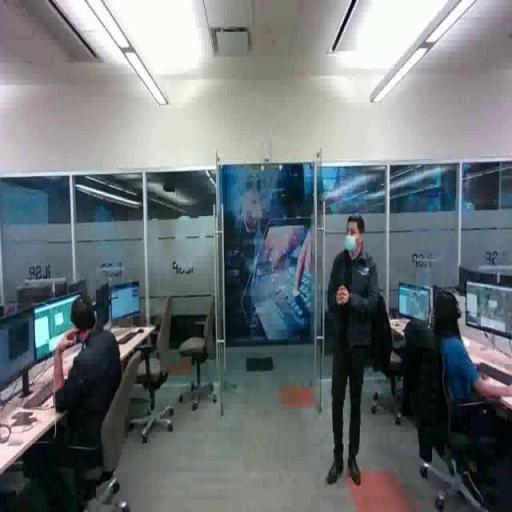person: (17, 299, 161, 512), (416, 285, 512, 504), (324, 213, 379, 487)
